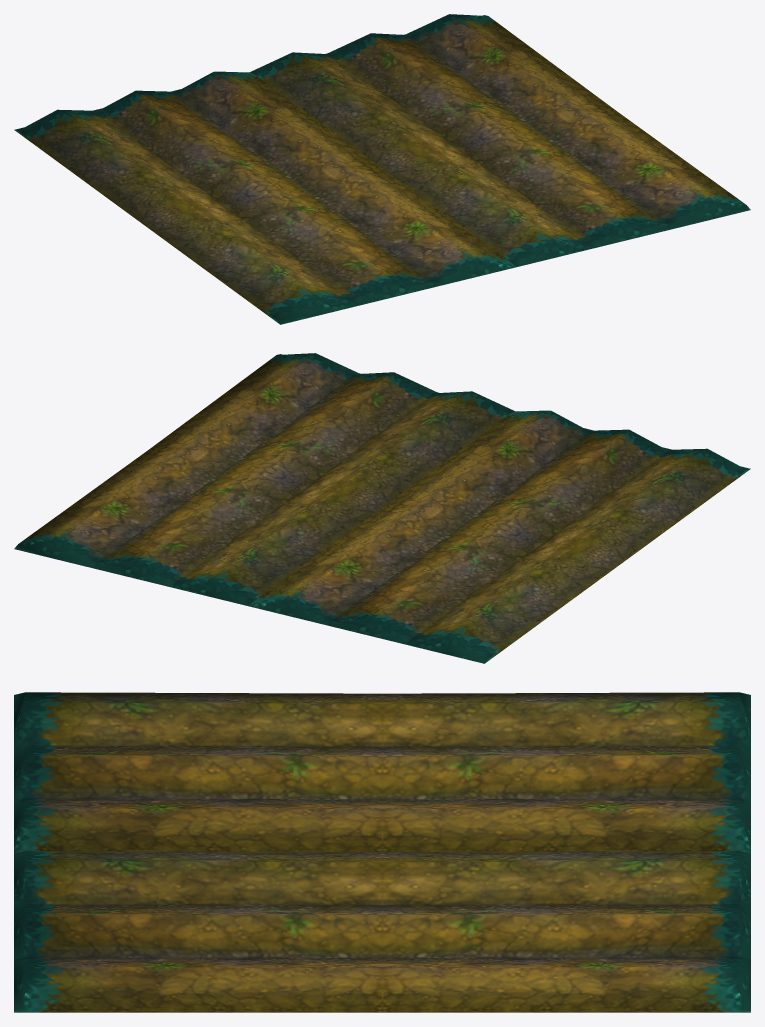
File: scenes_village_field01.FBX
The picture shows the model from 3 angles, top to bottom: view 1: azimuth 30°, elevation 25°; view 2: azimuth 150°, elevation 25°; view 3: azimuth 270°, elevation 25°; orthographic projection. The views are drawn at different scales.
Parts seen in each view (by area): view 1: scenes_village_field01; view 2: scenes_village_field01; view 3: scenes_village_field01.
Part boxes in pixels (bbox=[...]): scenes_village_field01: bbox=[14, 14, 750, 324]; scenes_village_field01: bbox=[14, 353, 750, 663]; scenes_village_field01: bbox=[14, 692, 750, 1012].
Bounding box in the file's own units: 816 × 22.3 × 800.
